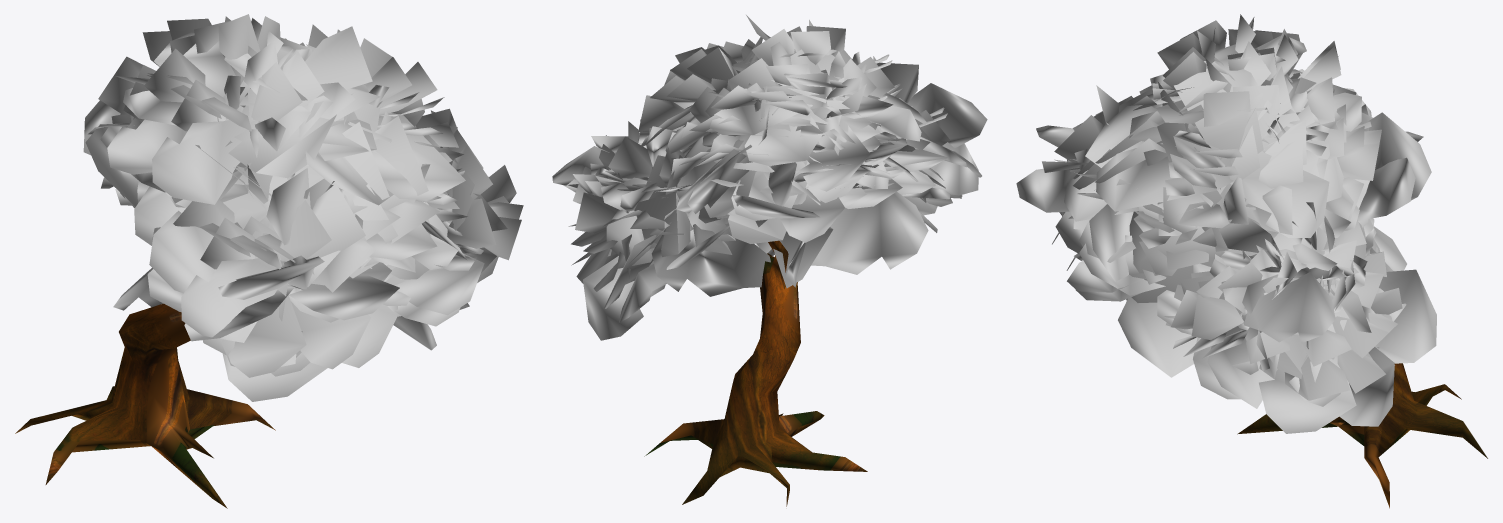
Rendered from Large_Tree_04_2.0.fbx.
3 renders of one model, left to right at view 1: azimuth 30°, elevation 25°; view 2: azimuth 150°, elevation 25°; view 3: azimuth 270°, elevation 25°, orthographic. The views are drawn at different scales.
Parts seen in each view (by area): view 1: Tree_Large_04_LOD0; view 2: Tree_Large_04_LOD0; view 3: Tree_Large_04_LOD0.
Boxes of the visible parts, box(x1,y1,x2,y2) form: Tree_Large_04_LOD0: box(15, 14, 523, 508); Tree_Large_04_LOD0: box(552, 15, 987, 506); Tree_Large_04_LOD0: box(1016, 14, 1487, 508).
Size of what is drawn, in the model's own units: 1864 by 2058 by 2028.
